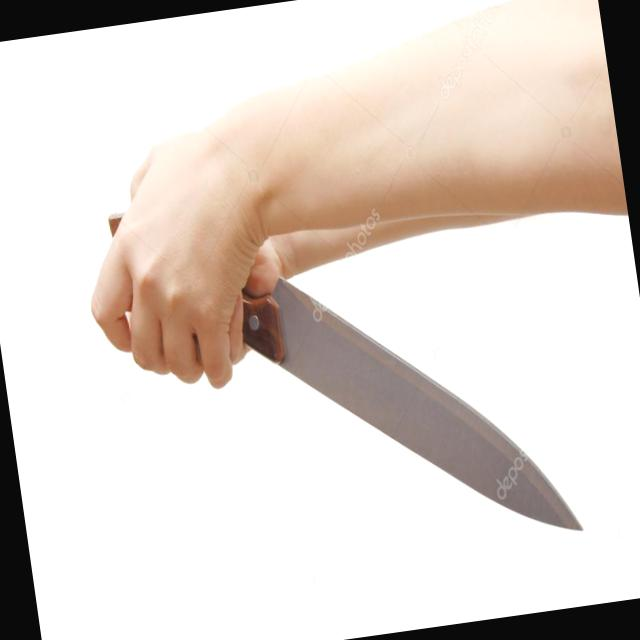knife: (82, 188, 595, 601)
